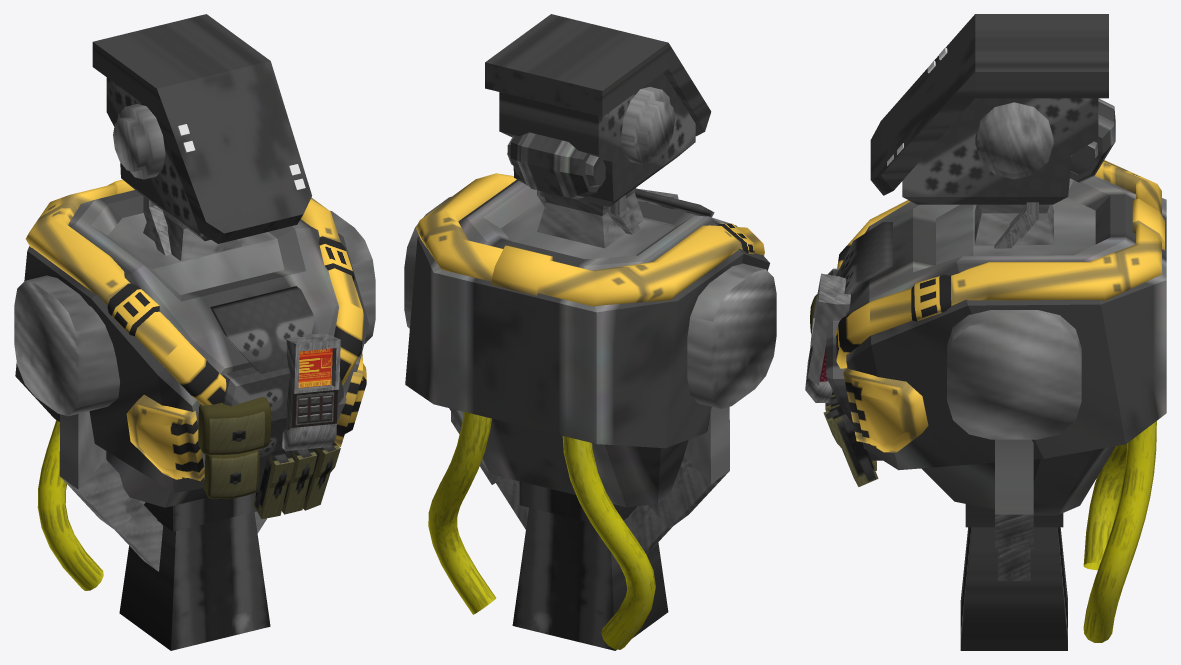
File: Robot 9 Head and chasis.fbx
3 views of the same model, side by side, from view 1: azimuth 30°, elevation 25°; view 2: azimuth 150°, elevation 25°; view 3: azimuth 270°, elevation 25° (orthographic). The views are drawn at different scales.
Parts seen in each view (by area): view 1: Cube.021, Cube.052, Cube.002, Cube.014; view 2: Cube.021, Cube.052, Cube.002, Cube.014; view 3: Cube.021, Cube.052, Cube.002, Cube.014.
Boxes of the visible parts, x1=… form: Cube.021: x1=14, y1=179, x2=375, y2=590; Cube.052: x1=92, y1=14, x2=311, y2=243; Cube.002: x1=119, y1=512, x2=270, y2=650; Cube.014: x1=143, y1=196, x2=246, y2=261; Cube.021: x1=404, y1=173, x2=776, y2=649; Cube.052: x1=485, y1=14, x2=711, y2=206; Cube.002: x1=512, y1=507, x2=668, y2=650; Cube.014: x1=537, y1=188, x2=643, y2=248; Cube.021: x1=805, y1=160, x2=1166, y2=642; Cube.052: x1=870, y1=14, x2=1115, y2=204; Cube.002: x1=960, y1=527, x2=1067, y2=650; Cube.014: x1=974, y1=202, x2=1053, y2=248.
Size of the model in its own units: 268 by 482 by 271.
